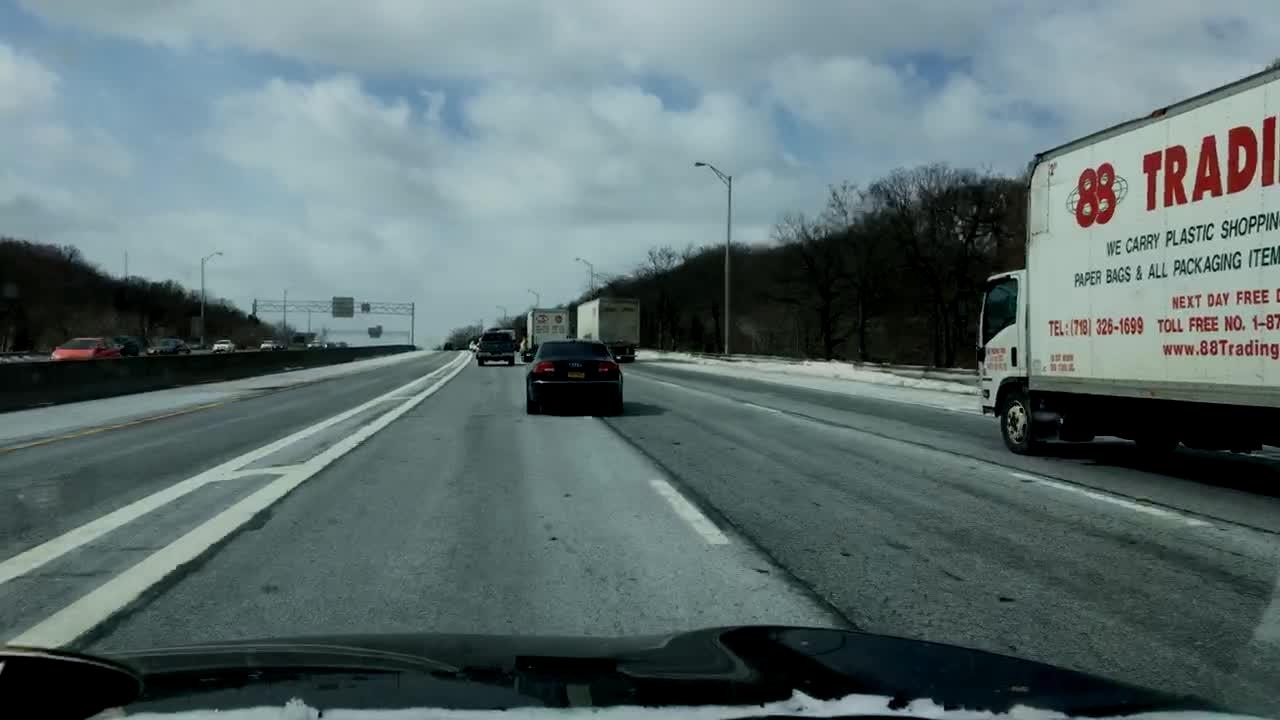Audi: (563, 358, 586, 370)
